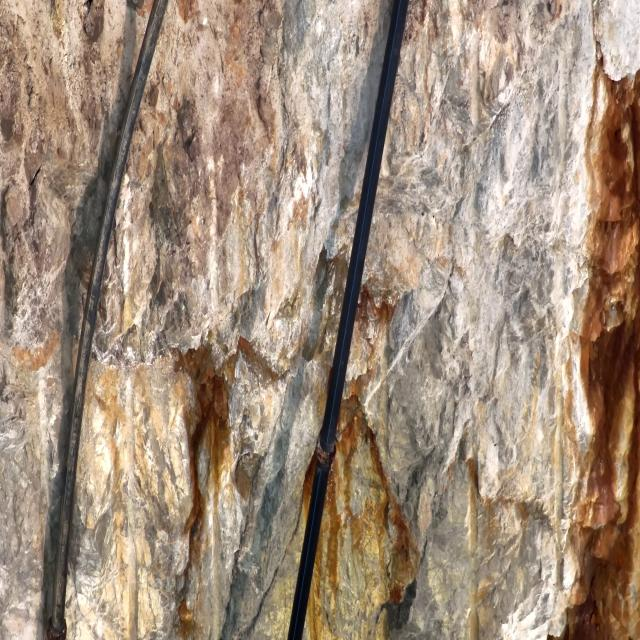leak: (326, 458, 335, 507)
